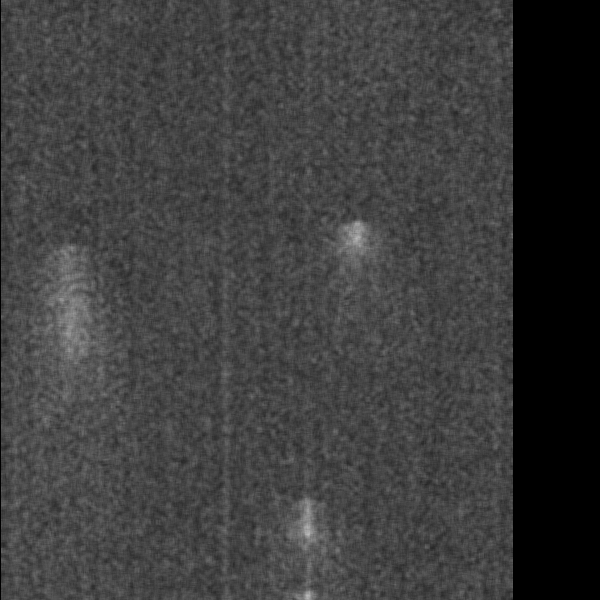spark: (47, 235, 89, 431), (336, 213, 372, 305), (290, 495, 317, 557)
